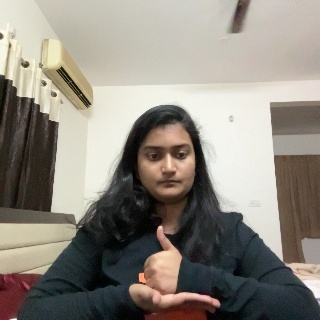Face: (137, 113, 200, 203)
Help: (122, 222, 216, 309)
